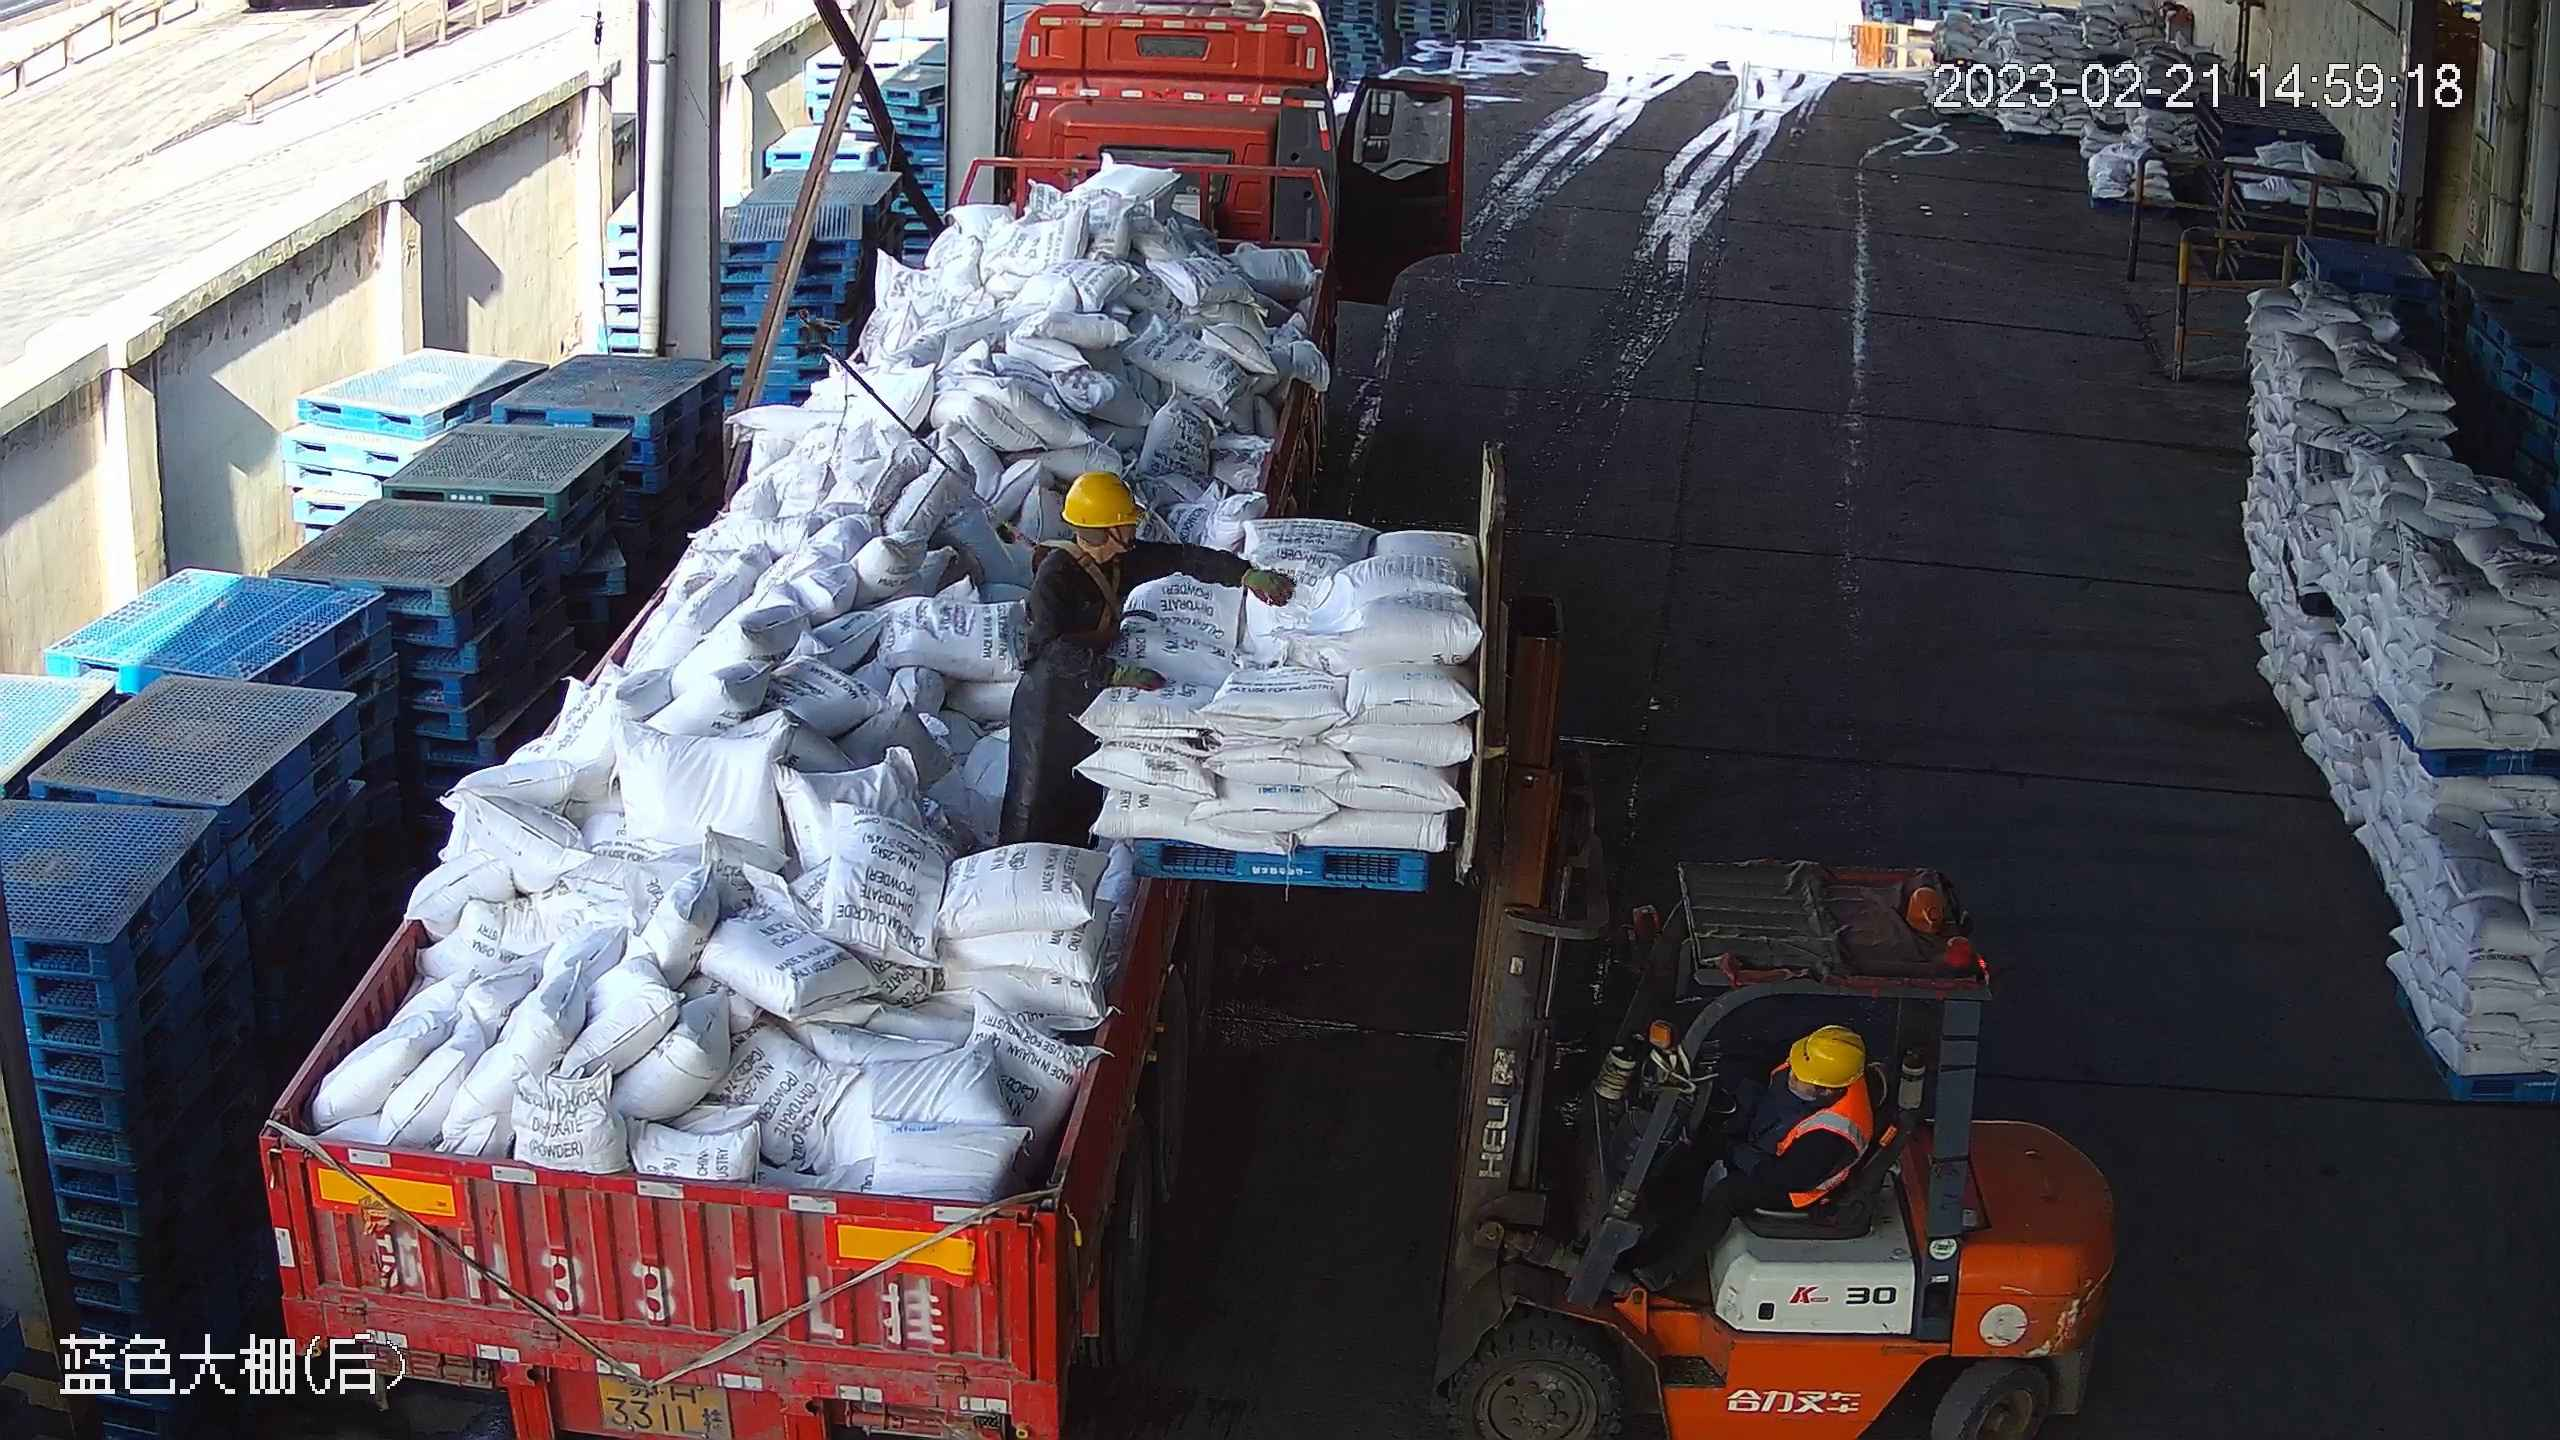belt: (1017, 525, 1157, 642)
head: (1027, 472, 1176, 640), (1735, 1025, 1873, 1157)
helmet: (1061, 469, 1139, 527), (1791, 1028, 1867, 1088)
people: (1001, 469, 1305, 847), (1606, 1022, 1876, 1298)
truck: (258, 1, 1465, 1434)
